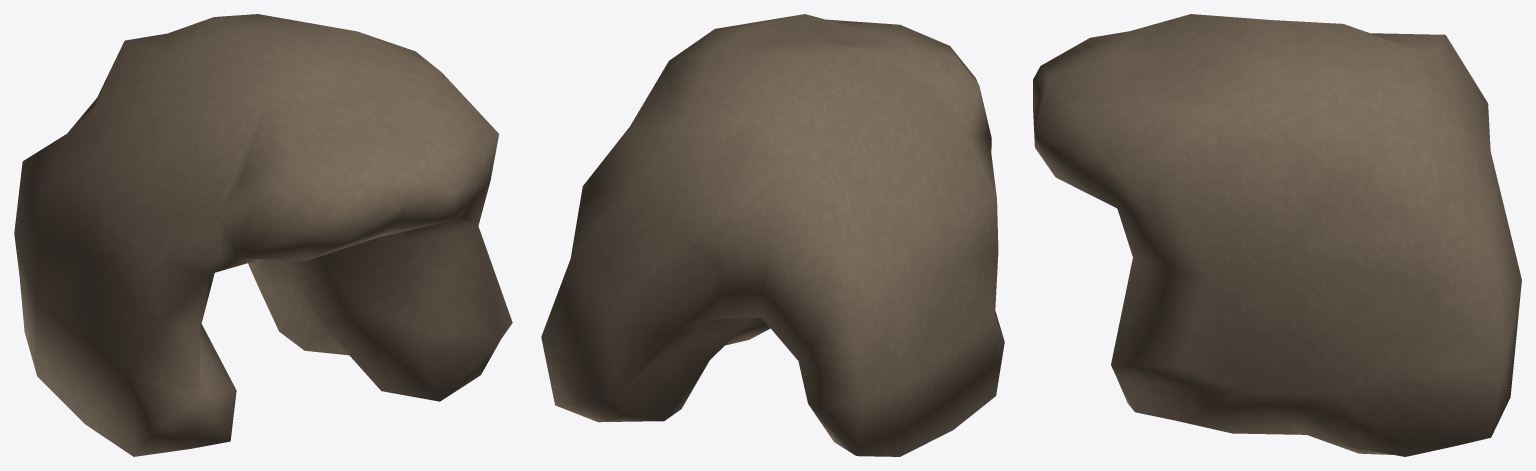
Rendered from rock_e.fbx.
3 views of the same model, side by side, from view 1: azimuth 30°, elevation 25°; view 2: azimuth 150°, elevation 25°; view 3: azimuth 270°, elevation 25° (orthographic). The views are drawn at different scales.
Visible parts, largest first — view 1: Cube; view 2: Cube; view 3: Cube.
Boxes of the visible parts, <box> form: Cube: <box>14,14,512,456</box>; Cube: <box>541,14,1004,456</box>; Cube: <box>1033,14,1521,456</box>.
Size of the model in its own units: 24.04 by 24.62 by 29.41.
